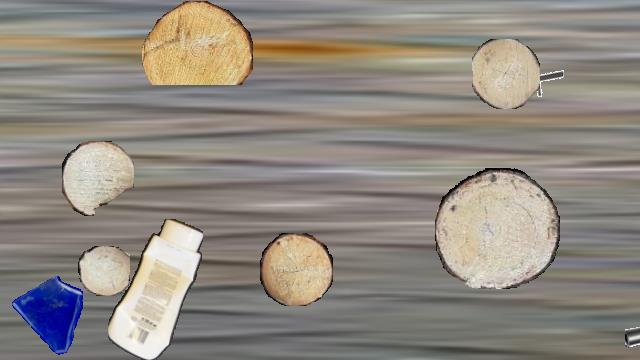glass: (8, 275, 92, 359)
metal: (526, 61, 564, 99), (625, 306, 640, 356)
plastic: (108, 219, 202, 359)
wood: (435, 168, 559, 288), (142, 1, 252, 85), (62, 141, 134, 215), (260, 233, 332, 305), (472, 39, 540, 109), (78, 246, 130, 296)
